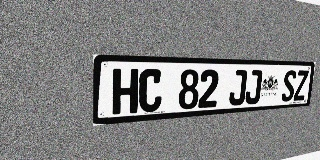2: (198, 69, 219, 108)
8: (178, 69, 200, 110)
C: (138, 69, 163, 113)
H: (112, 69, 139, 115)
J: (228, 70, 247, 106), (244, 70, 263, 105)
S: (281, 70, 297, 102)
Z: (293, 70, 309, 101)
